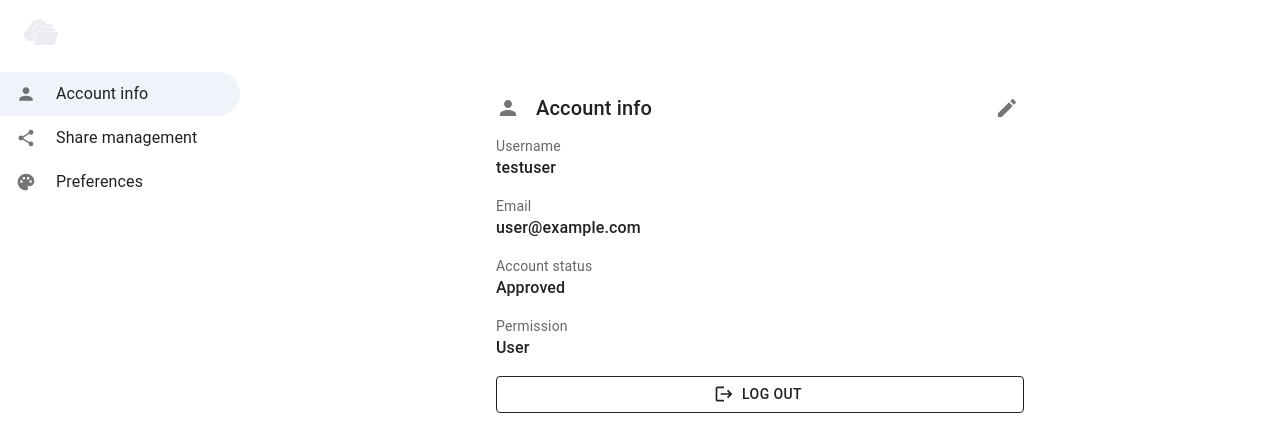
Scenario: MyPage › share links: shows list when API returns links
The image size is (1273, 430).
Click the button "Share management" at coordinates (107, 138), box [16,128,198,148]
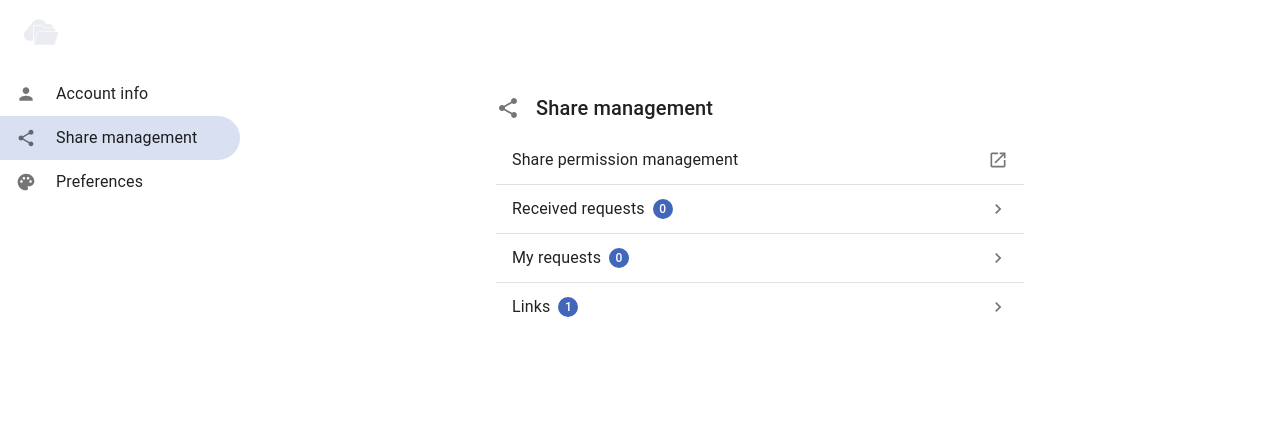
Expected: the button "Links 1" is shown
Click the button "Links 1" at coordinates (531, 306), box [512,297,1008,317]
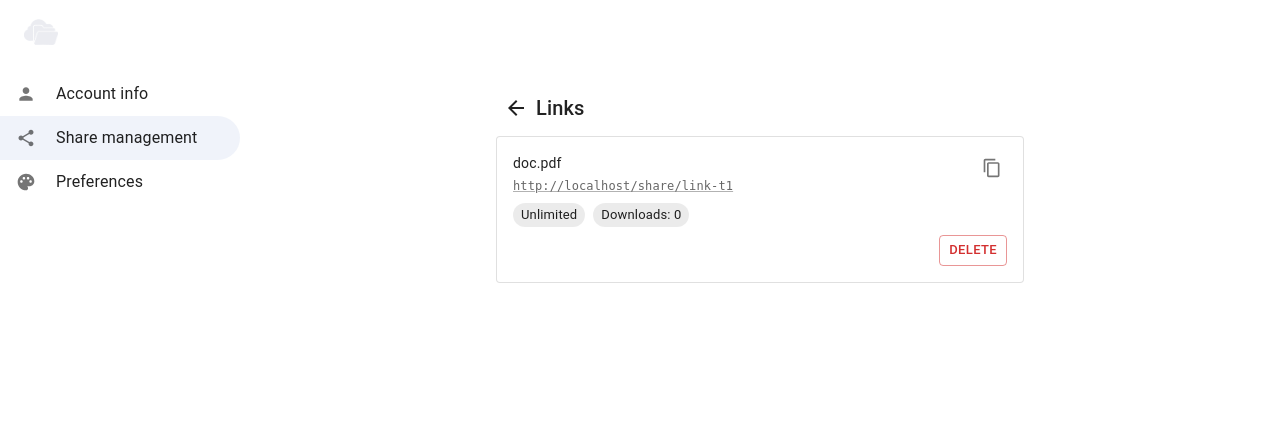
Expected: the text "doc.pdf" is shown, [513,155,562,171]
